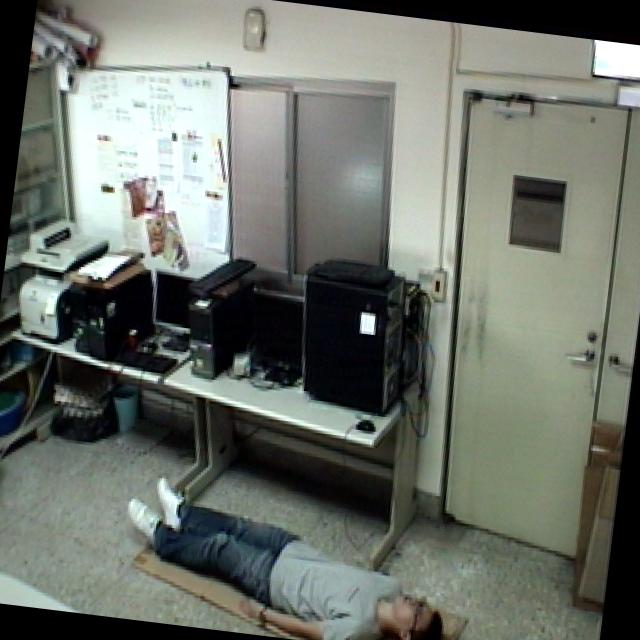lie: (106, 455, 468, 640)
